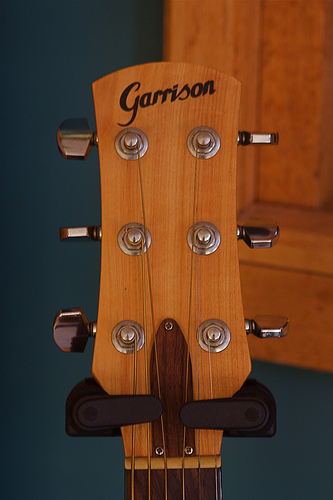guitar: (72, 56, 266, 500)
